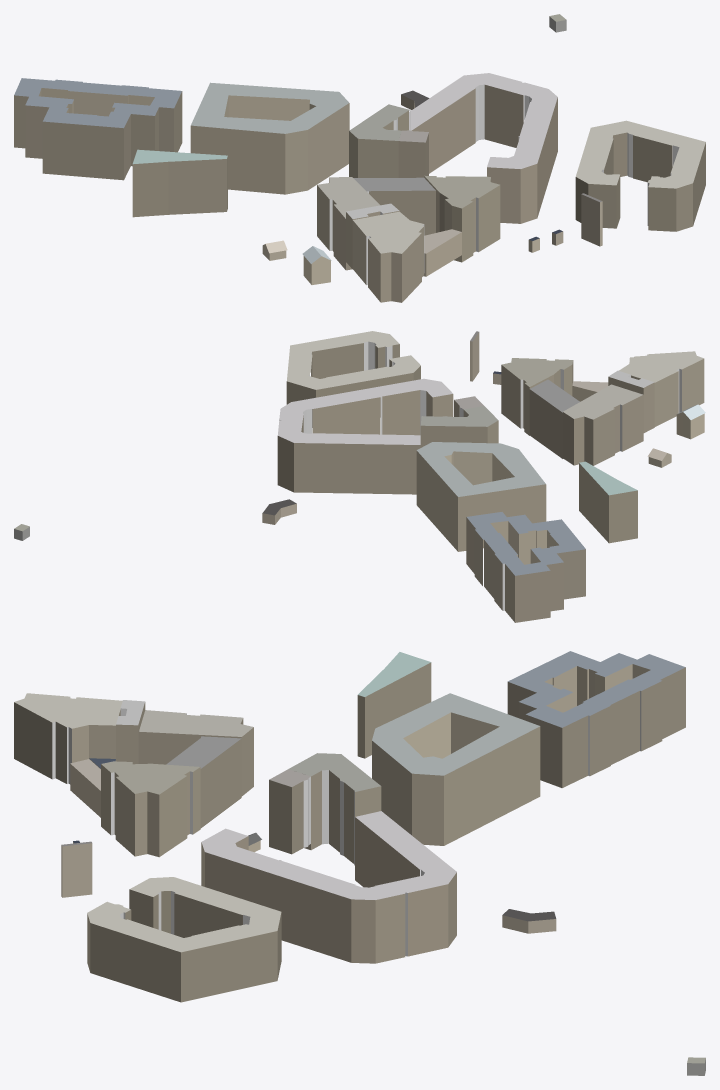
3 views of the same model, one above another, from view 1: azimuth 30°, elevation 25°; view 2: azimuth 150°, elevation 25°; view 3: azimuth 270°, elevation 25° (orthographic). The views are drawn at different scales.
Parts seen in each view (by area): view 1: tuile; view 2: tuile; view 3: tuile.
Part boxes in pixels (left/top/right/bottom): tuile: left=14, top=14, right=705, bottom=302; tuile: left=14, top=331, right=705, bottom=622; tuile: left=14, top=651, right=705, bottom=1075.
Bounding box in the file's own units: 252 × 42.3 × 227.
